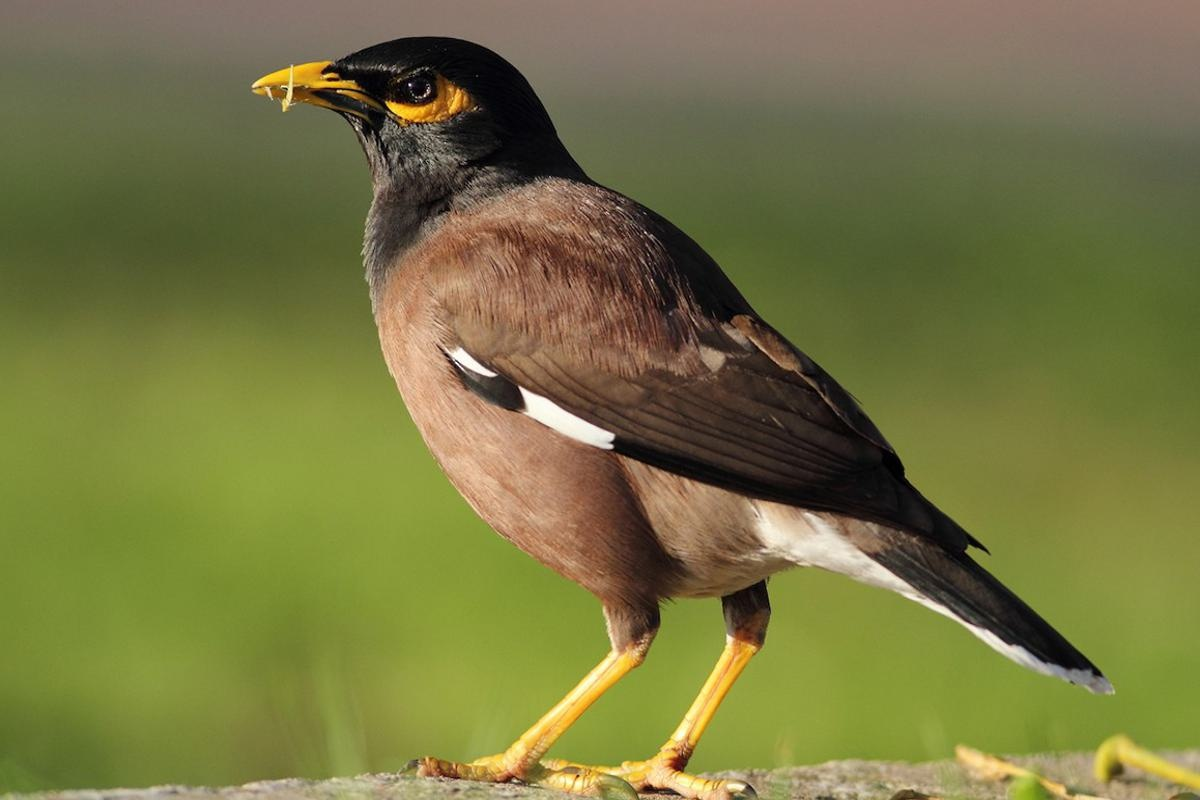myna: (253, 14, 1069, 695)
